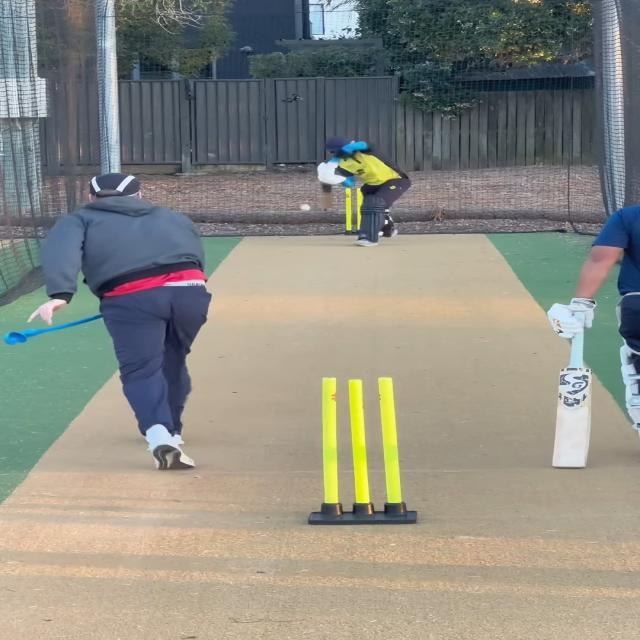ball: (297, 202, 315, 212)
stump: (305, 376, 421, 524)
